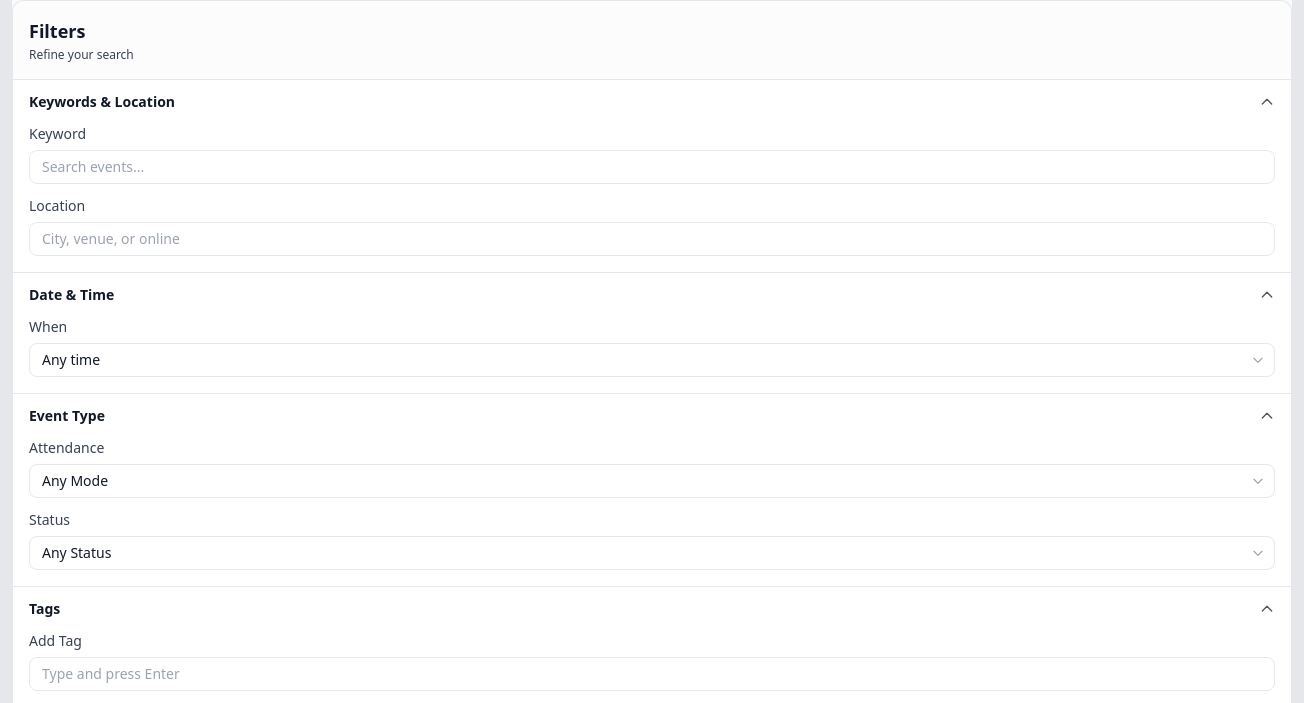
SearchFilters › user can see custom date inputs when custom date range is selected
The width and height of the screenshot is (1304, 703).
Select "Custom range" in the dropdown labelled "When" at [652, 360], box [29, 343, 1275, 377]
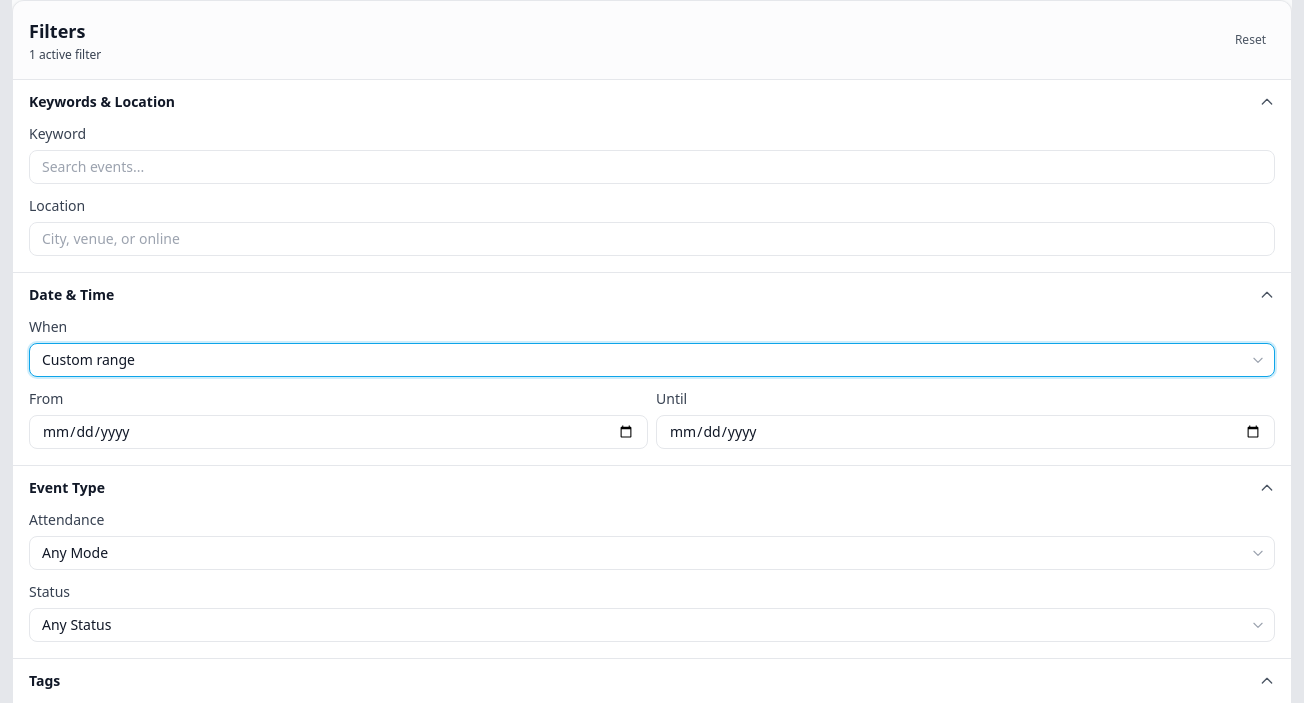
Now the date field labelled "From" is shown, box [29, 415, 648, 449]
Now the date field labelled "Until" is shown, box [656, 415, 1275, 449]
